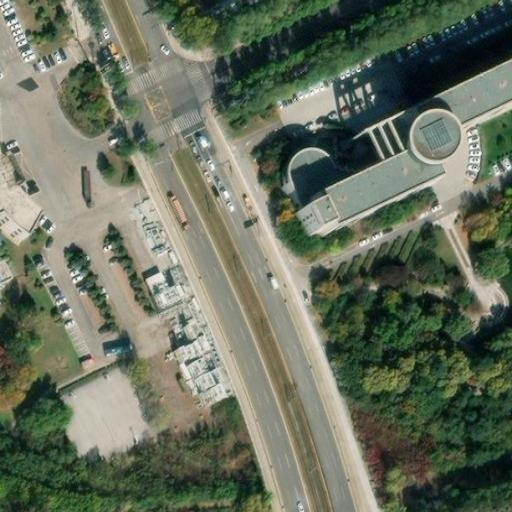building: (294, 61, 512, 238), (169, 326, 236, 407), (292, 147, 341, 200), (140, 264, 181, 313), (0, 252, 13, 281)
